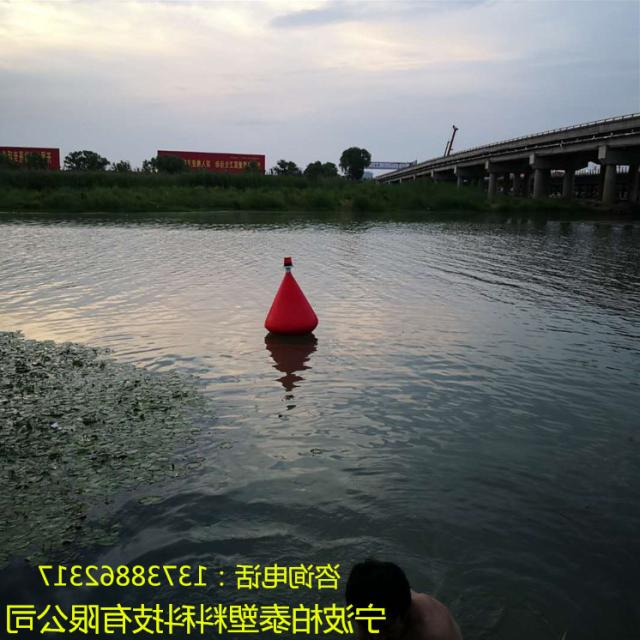buoy: (256, 257, 322, 335)
